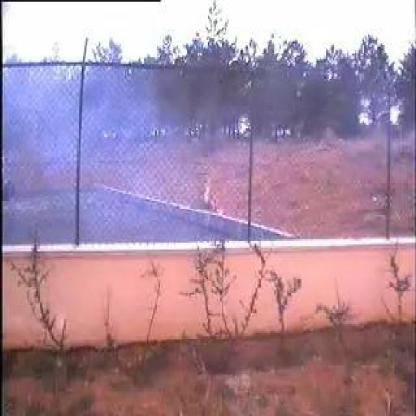-: (35, 79, 196, 236)
